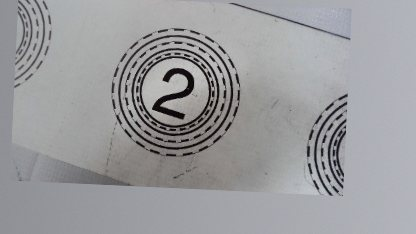2r: (107, 24, 244, 161)
